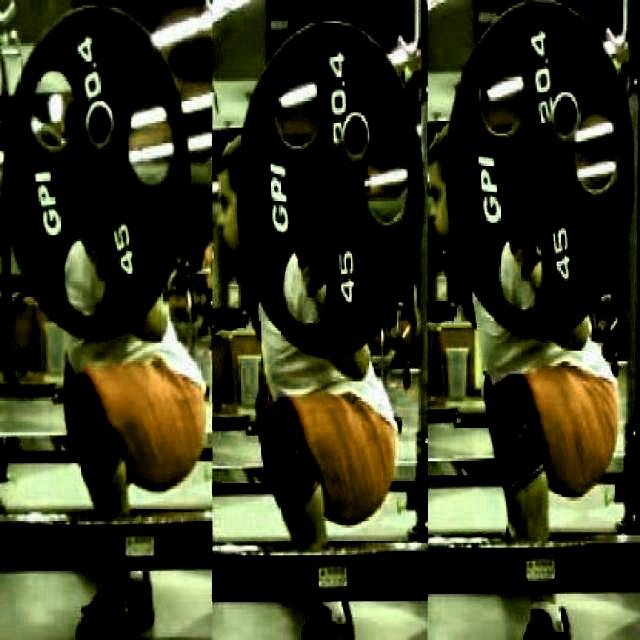barbell: (228, 12, 427, 362), (444, 2, 640, 347), (3, 4, 197, 350)
